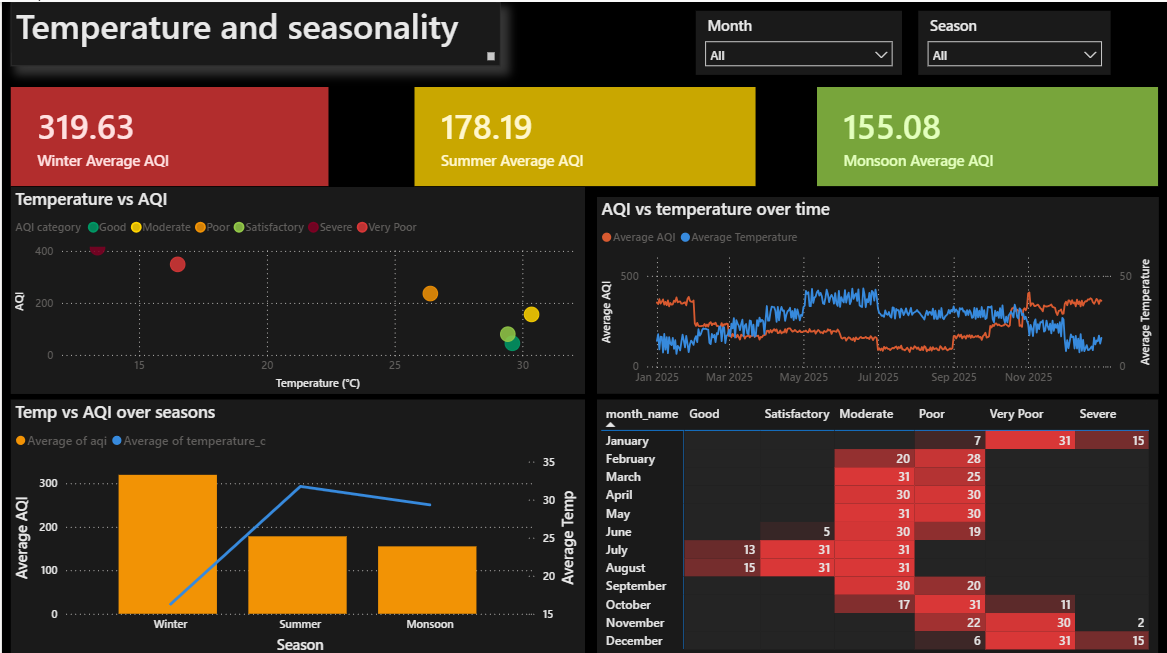

What the dashboard file says about the page in this screenshot:
{"tool":"powerbi","page":{"name":"Page 2","canvas":[1280,720],"ordinal":1},"visuals":[{"type":"textbox","title":"Temperature and seasonality","box":[10,0,537.5,70],"z":0},{"type":"slicer","fields":{"Values":["delhiaqi dim_date.Season"]},"box":[1006.2,10,211.2,70],"z":1000},{"type":"cardVisual","fields":{"Data":["_Measures.Winter Average AQI"]},"box":[10.2,93.2,349.2,108.5],"z":2000},{"type":"cardVisual","fields":{"Data":["_Measures.Summer Average AQI"]},"box":[452.5,93.2,374.6,108.5],"z":3000},{"type":"cardVisual","fields":{"Data":["_Measures.Monsoon Average AQI"]},"box":[894.9,93.2,374.6,108.5],"z":4000},{"type":"scatterChart","title":"Temperature vs AQI ","fields":{"X":["Avg(delhiaqi aqi_readings.temperature_c)"],"Y":["Avg(delhiaqi aqi_readings.aqi)"],"Series":["delhiaqi aqi_readings.aqi_category"]},"box":[10,202.5,630,227.5],"z":5000},{"type":"lineChart","title":"AQI vs temperature over time","fields":{"Category":["delhiaqi dim_date.date_key"],"Y":["_Measures.Average AQI"],"Y2":["_Measures.Average Temperature"]},"box":[653.2,213.4,616.9,216.3],"z":6000},{"type":"pivotTable","fields":{"Rows":["delhiaqi dim_date.month_name"],"Columns":["AQI Category.aqi_category"],"Values":["_Measures.Reading Days"]},"box":[653.8,436.2,616.2,283.8],"z":7000},{"type":"lineClusteredColumnComboChart","title":"Temp vs AQI over seasons","fields":{"Category":["delhiaqi dim_date.Season"],"Y":["Avg(delhiaqi aqi_readings.aqi)"],"Y2":["Avg(delhiaqi aqi_readings.temperature_c)"]},"box":[10,436.2,630,283.8],"z":8000},{"type":"slicer","fields":{"Values":["delhiaqi dim_date.month_name"]},"box":[761.2,10,226.2,70],"z":9000}]}

Visuals, with their boxes in screenshot pixels (x1, y1, x2, y2), scaled from the page's 1280x720 canvas onto the 1167x653 screenshot:
"Temperature and seasonality" textbox: left=9, top=0, right=499, bottom=63
slicer - delhiaqi dim_date.Season: left=917, top=9, right=1110, bottom=73
cardVisual - _Measures.Winter Average AQI: left=9, top=85, right=328, bottom=183
cardVisual - _Measures.Summer Average AQI: left=413, top=85, right=754, bottom=183
cardVisual - _Measures.Monsoon Average AQI: left=816, top=85, right=1157, bottom=183
"Temperature vs AQI " scatterChart: left=9, top=184, right=584, bottom=390
"AQI vs temperature over time" lineChart: left=596, top=194, right=1158, bottom=390
pivotTable - delhiaqi dim_date.month_name x AQI Category.aqi_category: left=596, top=396, right=1158, bottom=652
"Temp vs AQI over seasons" lineClusteredColumnComboChart: left=9, top=396, right=584, bottom=652
slicer - delhiaqi dim_date.month_name: left=694, top=9, right=900, bottom=73
